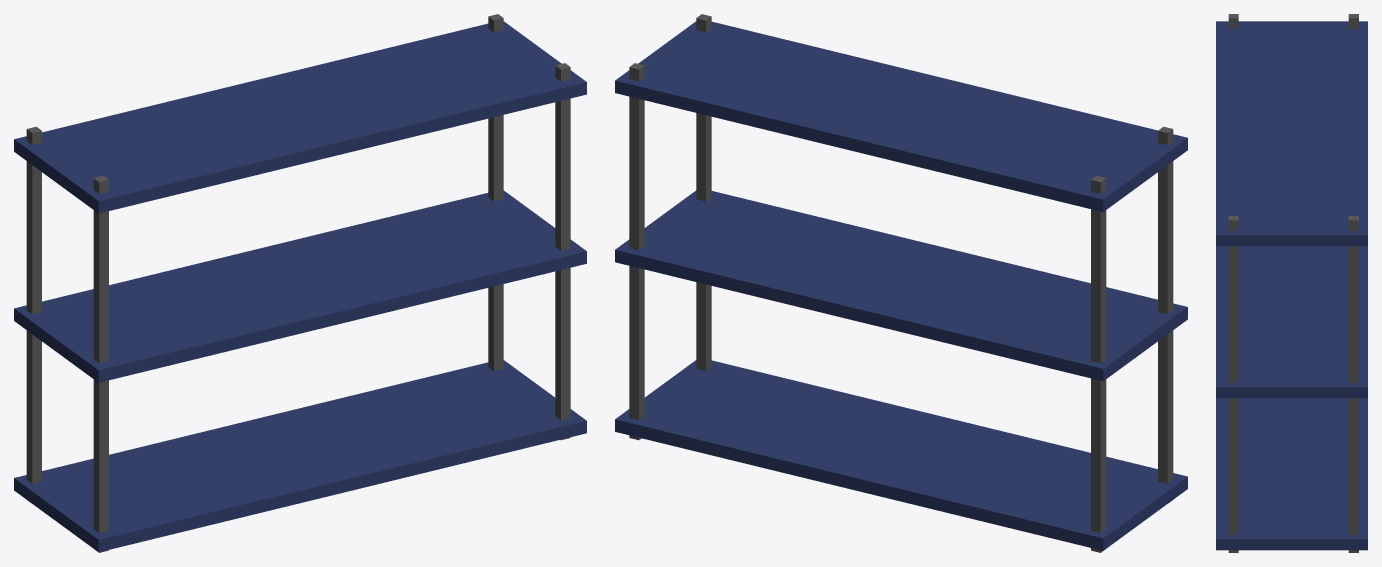
Rendered from Shelf.fbx.
3 renders of one model, left to right at view 1: azimuth 30°, elevation 25°; view 2: azimuth 150°, elevation 25°; view 3: azimuth 270°, elevation 25°, orthographic. The views are drawn at different scales.
Visible parts, largest first — view 1: Shelf; view 2: Shelf; view 3: Shelf.
Boxes of the visible parts, box(x1,y1,x2,y2) form: Shelf: box(14, 14, 586, 552); Shelf: box(615, 14, 1187, 552); Shelf: box(1216, 14, 1367, 552).
Size of the model in its own units: 333 by 242 by 100.
1 material, 1 textured.
